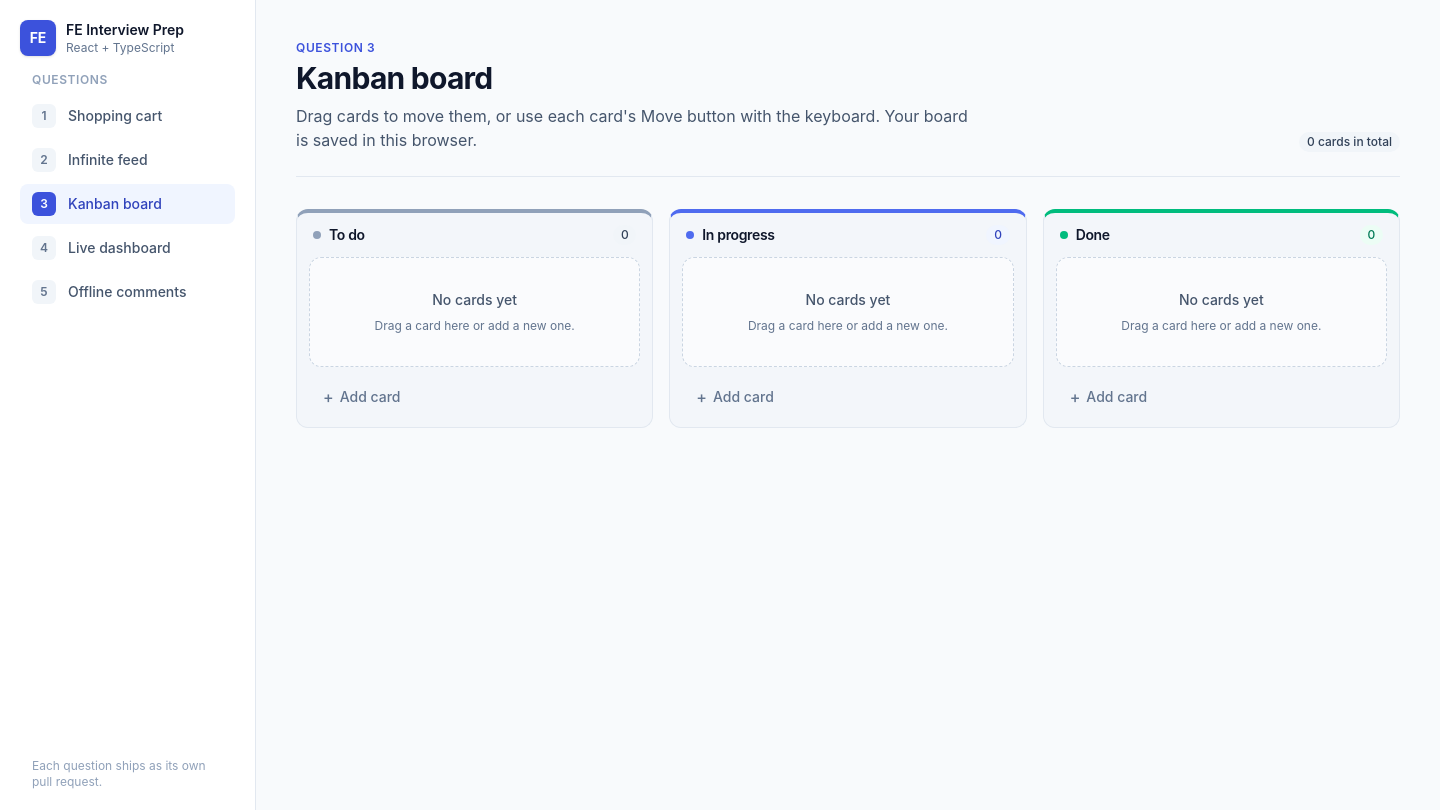
Scenario: Kanban board › requires a title before adding a card
The width and height of the screenshot is (1440, 810).
Expected: the heading "Kanban board" is shown, [296,60,492,96]
Click the button "+ Add card" below "To do". click: [370, 396]
box: [309,379,640,415]
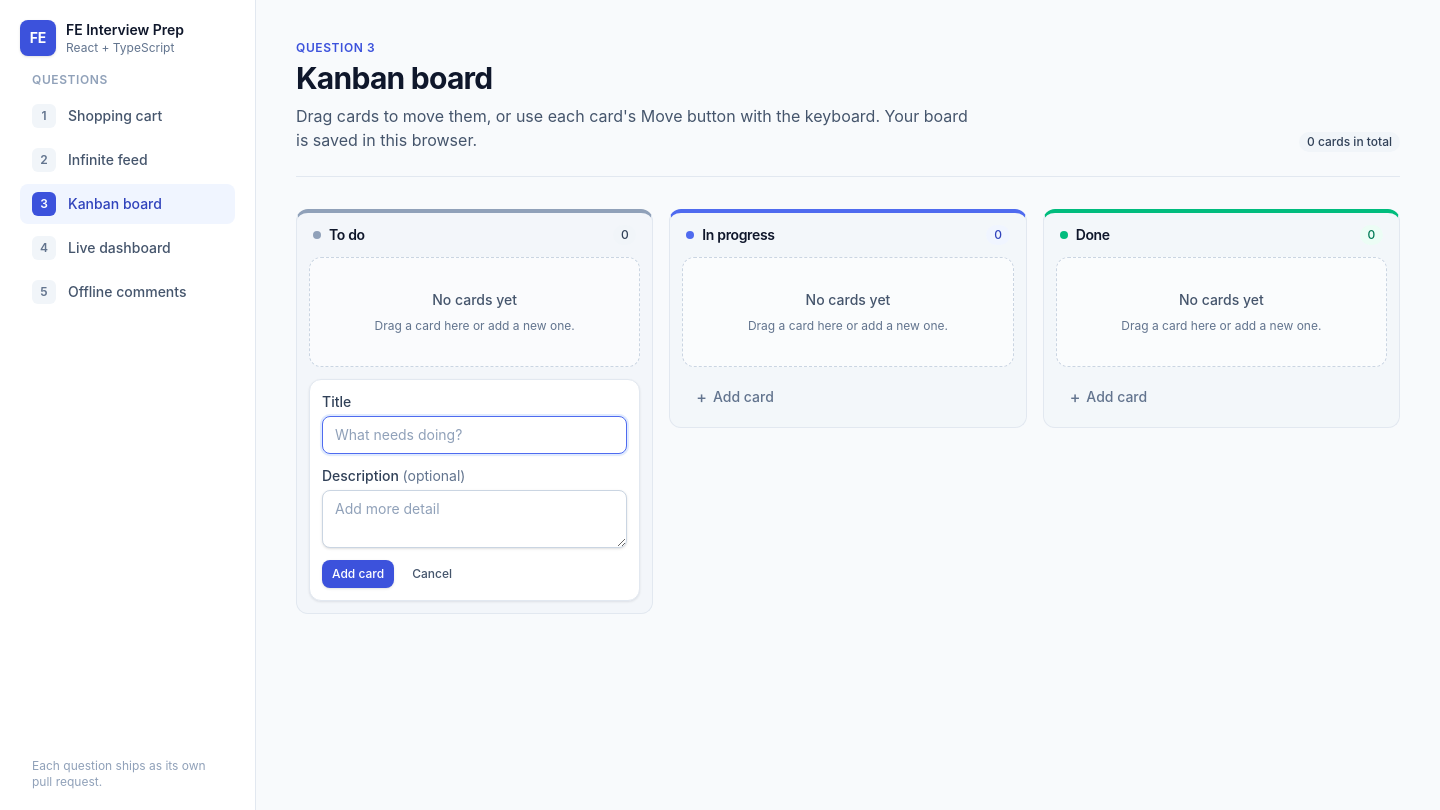
Click the button "Add card". click: [358, 574]
box: [322,560,394,588]
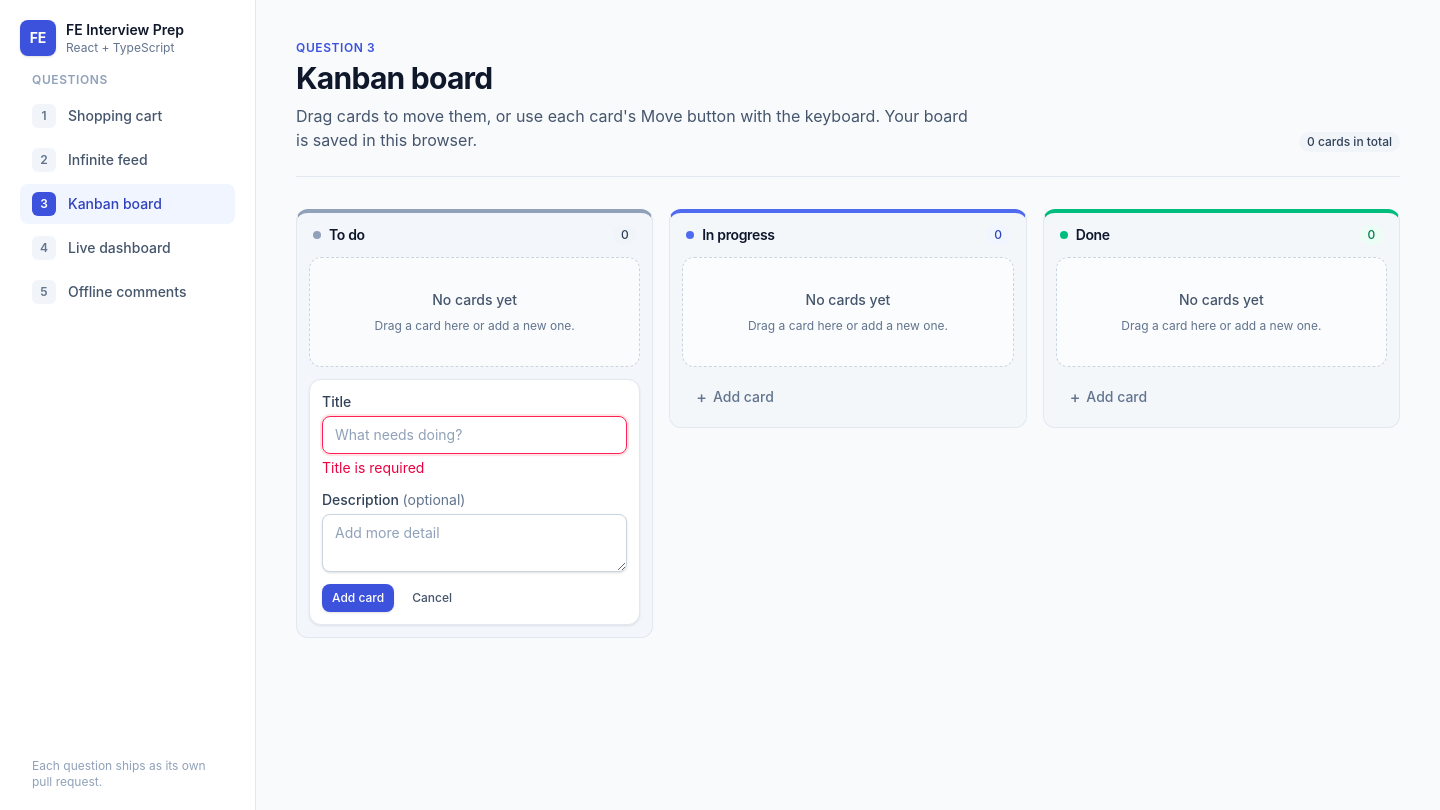
Type "Write the spec" into the field labelled "Title". click: [475, 435]
box: [322,416,627,454]
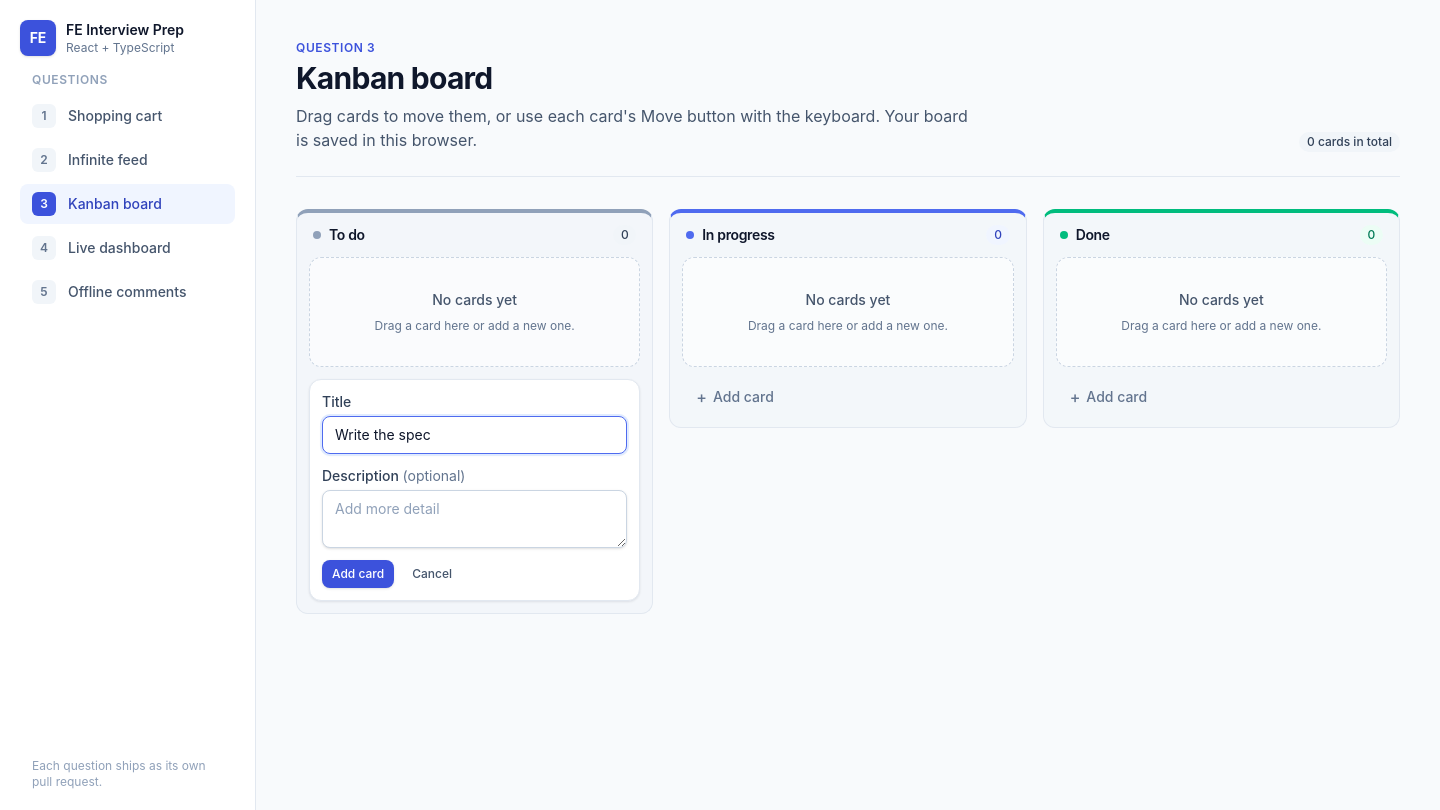
Click the button "Add card". click: [358, 574]
box: [322,560,394,588]
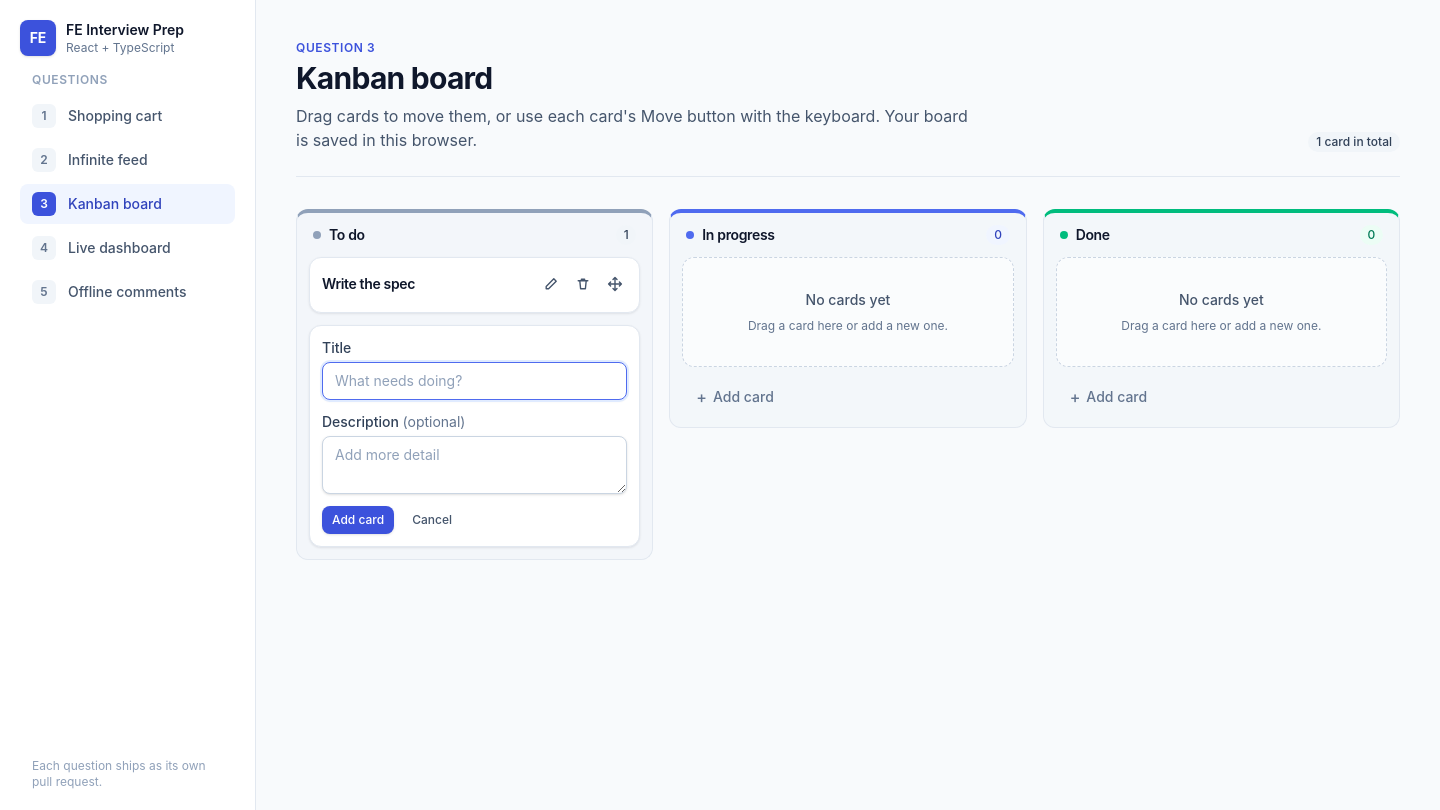
Now the element "Write the spec" is shown, box [309,257,640,313]
